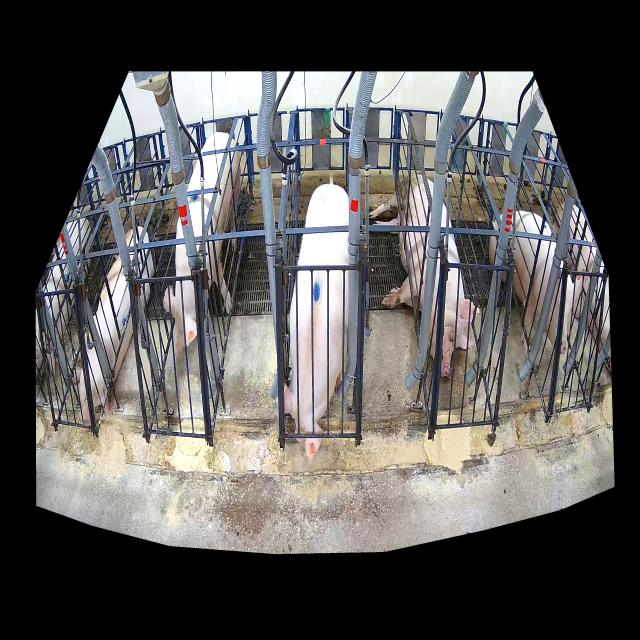pig: (370, 174, 475, 376), (284, 184, 349, 466), (163, 132, 240, 356), (72, 226, 154, 423), (489, 211, 586, 354)
